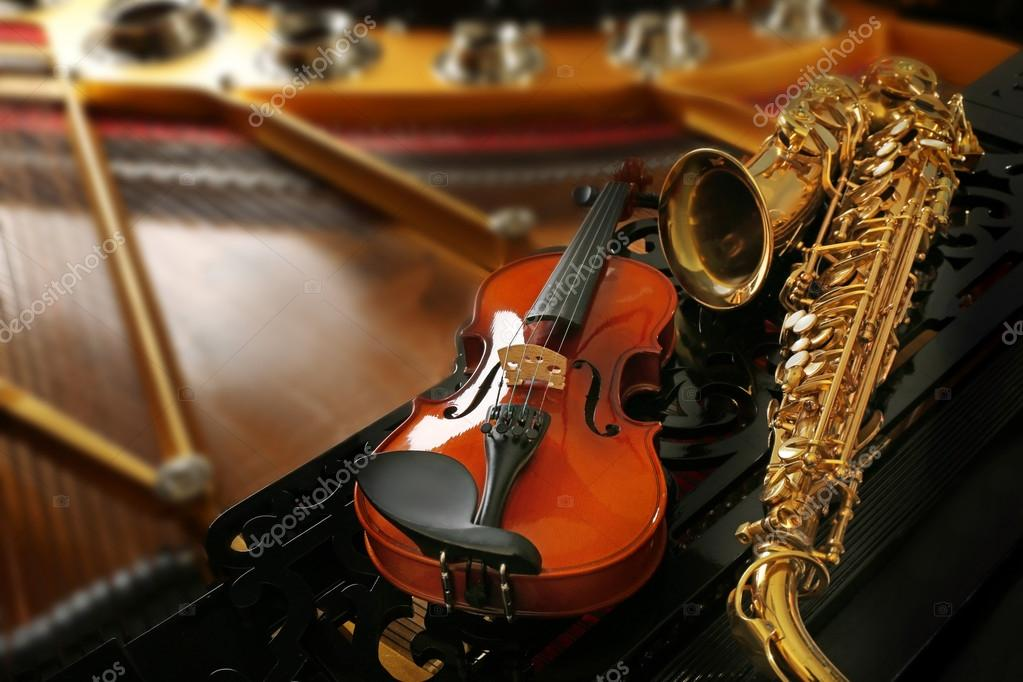Piano: (1, 32, 1022, 682)
Saxophone: (610, 51, 1006, 682)
Violin: (319, 108, 703, 630)
